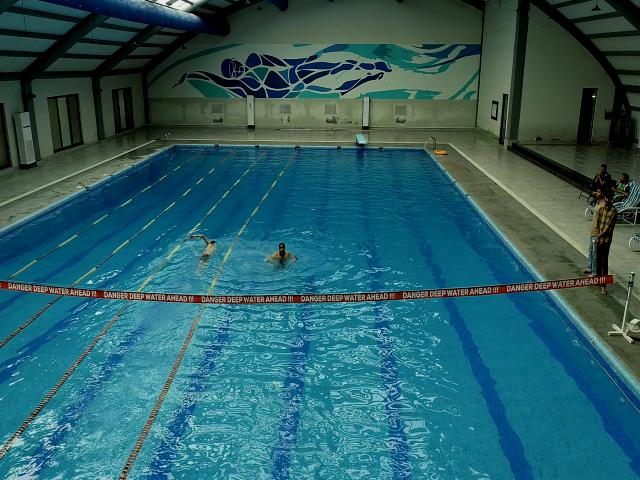out of water: (590, 190, 616, 282), (616, 170, 630, 202), (598, 162, 610, 189)
swimming: (268, 243, 298, 266), (198, 235, 217, 268)
